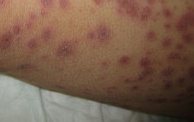SJS-TEN: (94, 0, 194, 108), (0, 0, 81, 71), (85, 21, 113, 46), (56, 36, 79, 61)
